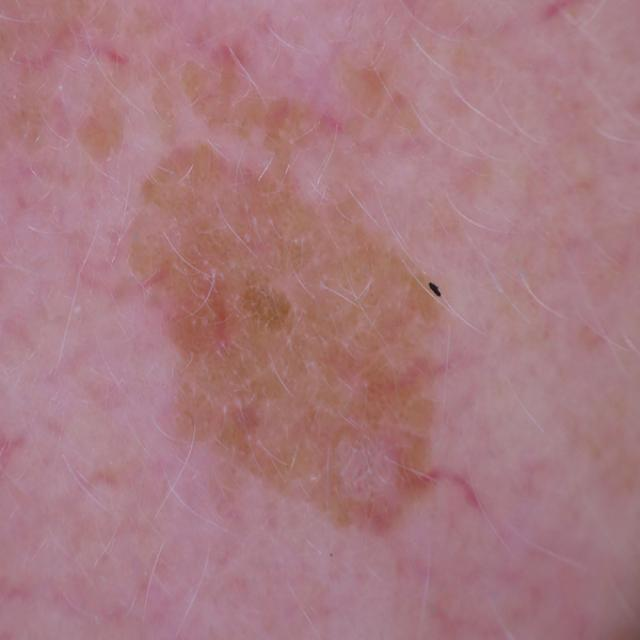Skin-Cancer Pigmented benign keratosis: (37, 35, 617, 640)
